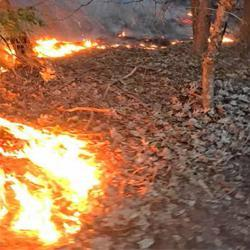fire: (27, 131, 100, 192), (16, 192, 59, 238), (39, 37, 88, 55)
